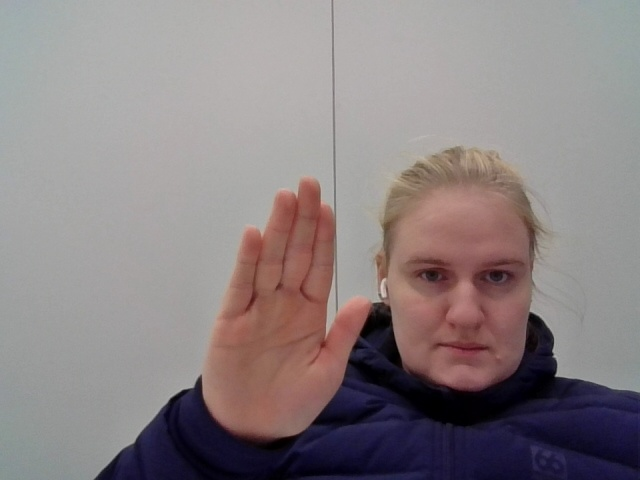nada: (192, 173, 372, 447)
